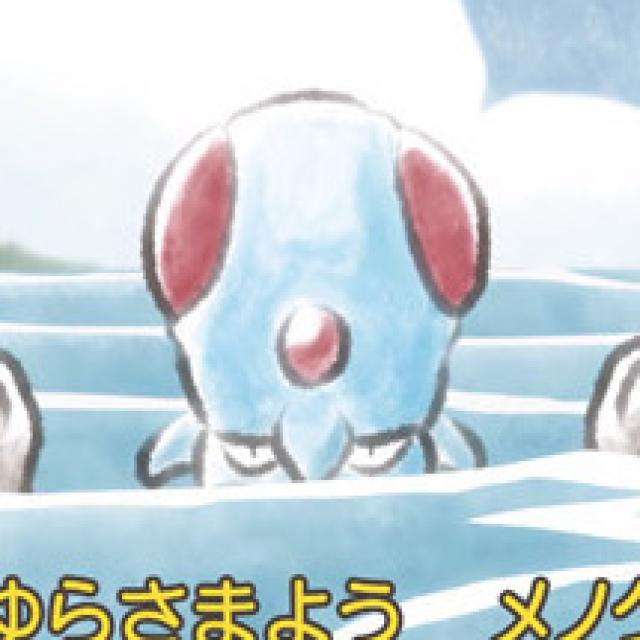Tentacool: (143, 92, 488, 486)
